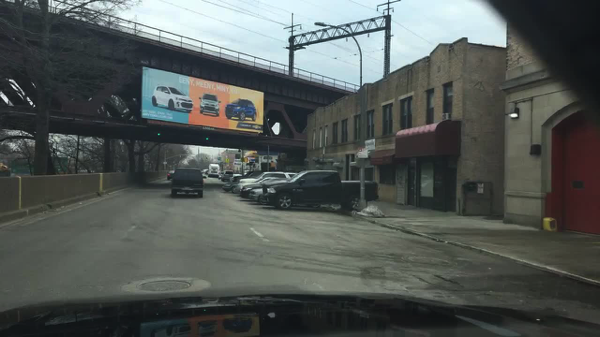car: (249, 172, 318, 202), (238, 168, 299, 198), (222, 171, 267, 195), (170, 168, 203, 198), (222, 170, 235, 182), (0, 161, 12, 172), (166, 169, 175, 181), (230, 172, 243, 180), (217, 171, 224, 181), (79, 169, 96, 173), (201, 168, 210, 174), (261, 156, 273, 160), (242, 157, 249, 162), (200, 174, 207, 178)
traffic light: (234, 153, 242, 160), (206, 134, 211, 143), (157, 131, 162, 139)
traffic sign: (12, 156, 70, 173), (357, 148, 368, 159), (224, 157, 230, 165), (215, 156, 223, 161), (160, 161, 169, 164)
truck: (262, 169, 378, 210), (208, 164, 220, 177)
